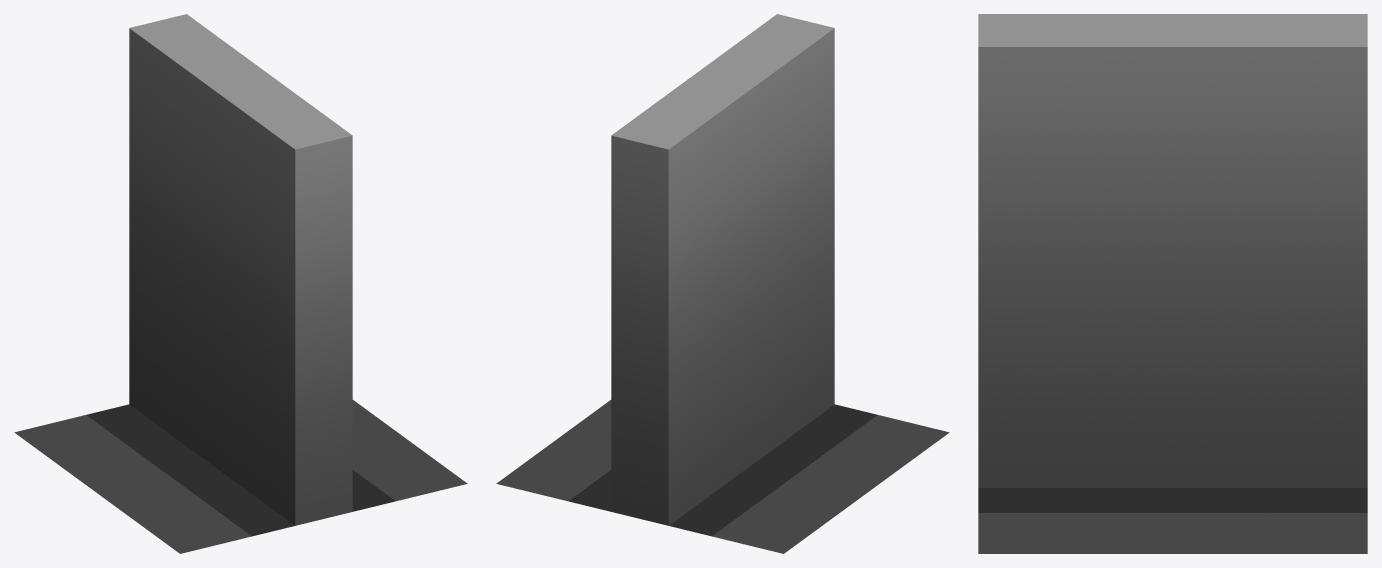
Rendered from SM_Muur.fbx.
The picture shows the model from 3 angles, left to right: view 1: azimuth 30°, elevation 25°; view 2: azimuth 150°, elevation 25°; view 3: azimuth 270°, elevation 25°; orthographic projection. The views are drawn at different scales.
Parts seen in each view (by area): view 1: SM_muur; view 2: SM_muur; view 3: SM_muur.
Part boxes in pixels (bbox=[...]): SM_muur: bbox=[14, 14, 467, 553]; SM_muur: bbox=[496, 14, 949, 553]; SM_muur: bbox=[978, 14, 1367, 553].
Bounding box in the file's own units: 200 × 250 × 200.
